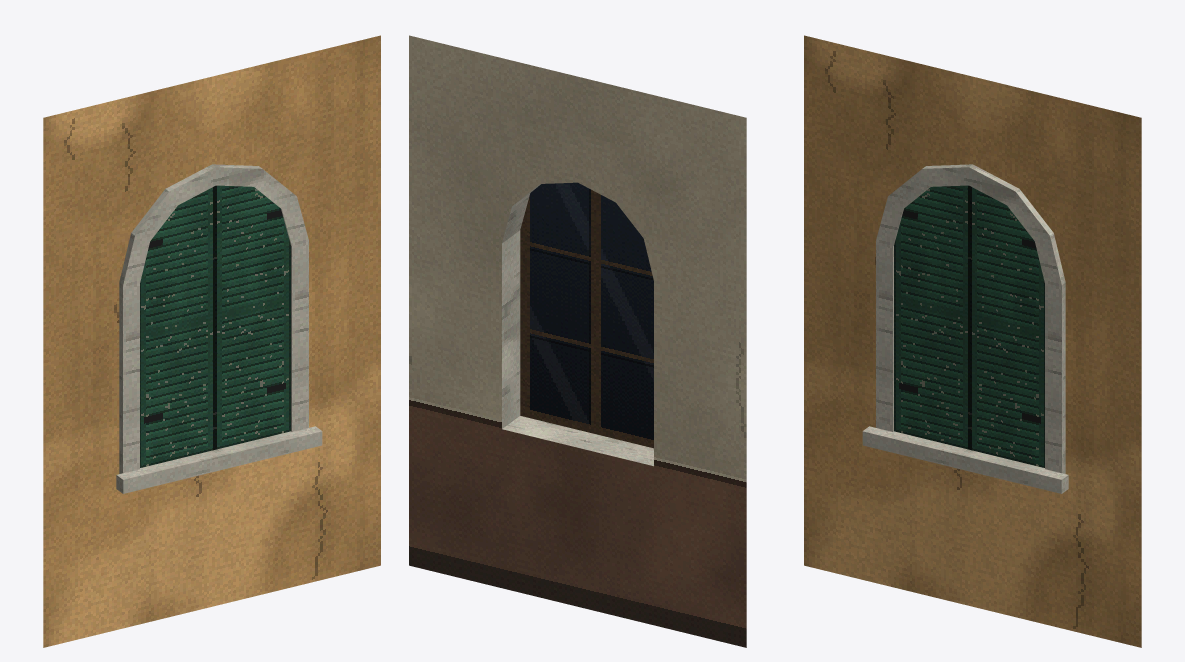
File: ext_window_arch_shut.gltf
3 views of the same model, side by side, from view 1: azimuth 30°, elevation 25°; view 2: azimuth 150°, elevation 25°; view 3: azimuth 330°, elevation 25° (orthographic).
Parts seen in each view (by area): view 1: ext_window_arch_shut; view 2: ext_window_arch_shut; view 3: ext_window_arch_shut.
Boxes of the visible parts, <box> form: ext_window_arch_shut: <box>43,35,380,647</box>; ext_window_arch_shut: <box>409,35,746,647</box>; ext_window_arch_shut: <box>804,35,1141,647</box>.
Size of what is drawn, in the model's own units: 2 by 3 by 0.41.
5 materials, 5 textured.
